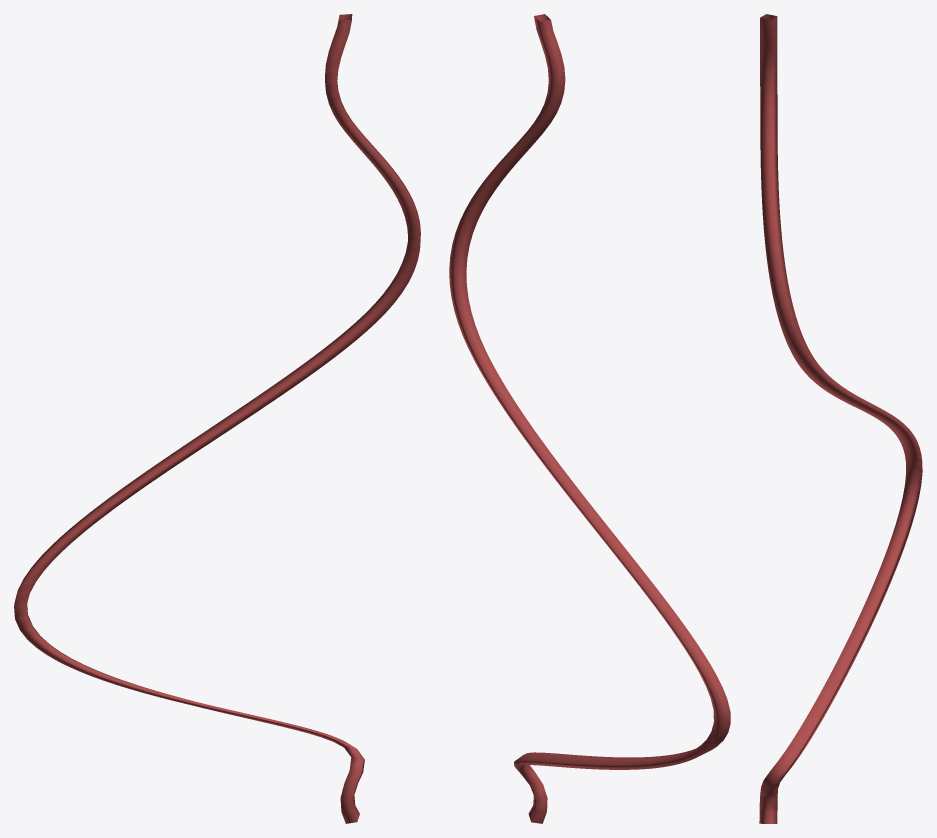
File: wireTwoStraightPrime.fbx
3 views of the same model, side by side, from view 1: azimuth 30°, elevation 25°; view 2: azimuth 150°, elevation 25°; view 3: azimuth 270°, elevation 25° (orthographic).
Parts seen in each view (by area): view 1: extrudedSurface9; view 2: extrudedSurface9; view 3: extrudedSurface9.
Part boxes in pixels (x1=…): extrudedSurface9: x1=14, y1=14, x2=420, y2=823; extrudedSurface9: x1=449, y1=14, x2=730, y2=823; extrudedSurface9: x1=759, y1=14, x2=922, y2=823.
Bounding box in the file's own units: 26.3 × 59.08 × 10.81.
